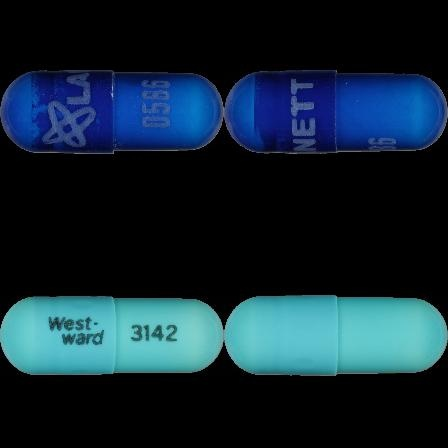0440-7384: (0, 0, 224, 224)
